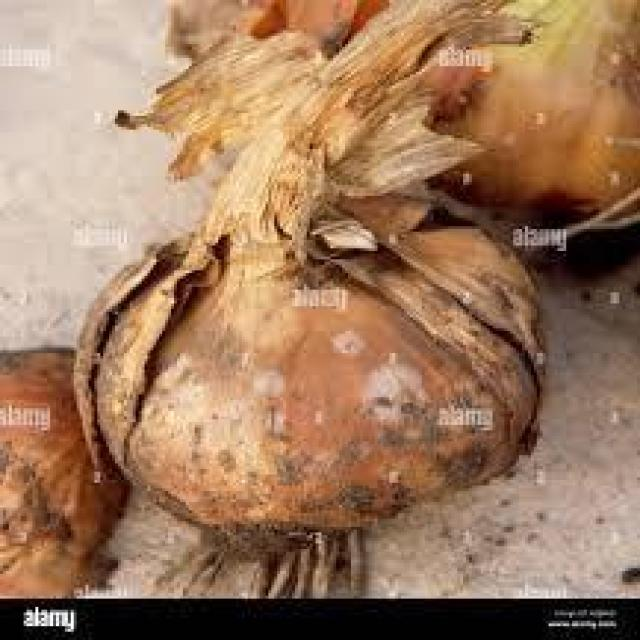Onion: (76, 3, 552, 596), (171, 0, 640, 240), (0, 339, 127, 602)
